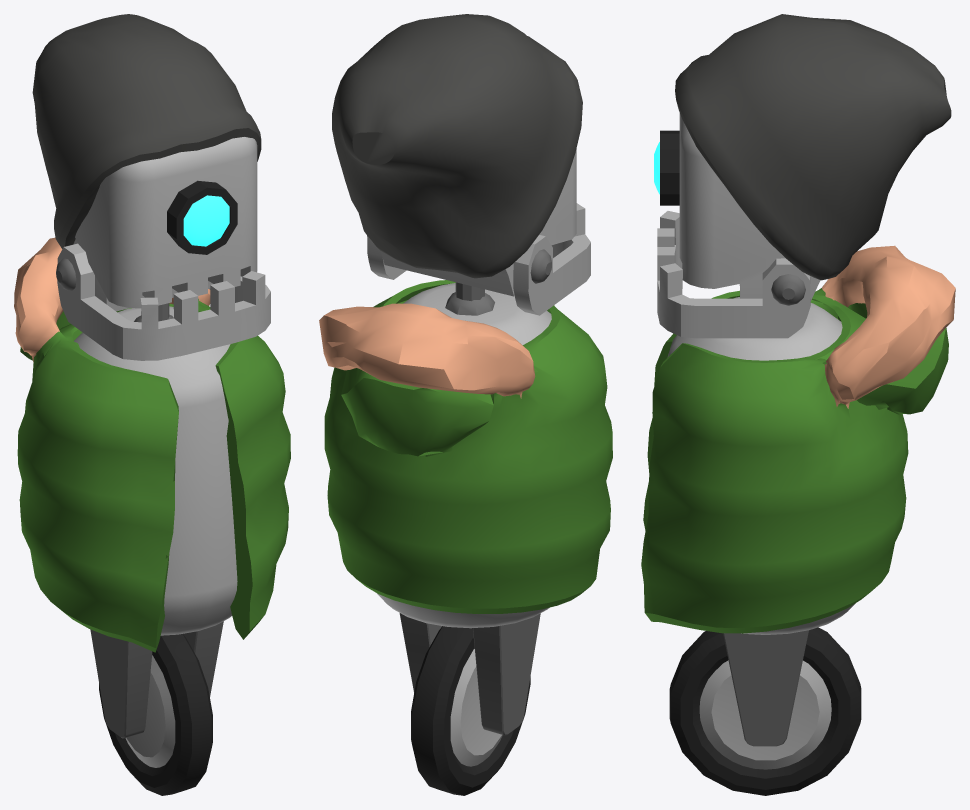
File: GreenBot.fbx
3 views of the same model, side by side, from view 1: azimuth 30°, elevation 25°; view 2: azimuth 150°, elevation 25°; view 3: azimuth 270°, elevation 25° (orthographic). The views are drawn at different scales.
Visible parts, largest first — view 1: GreenBot; view 2: GreenBot; view 3: GreenBot.
Boxes of the visible parts, x1,y1,x2,y2 form: GreenBot: [14, 14, 290, 795]; GreenBot: [319, 14, 612, 795]; GreenBot: [641, 14, 955, 795].
Size of the model in its own units: 248 by 734 by 274.
